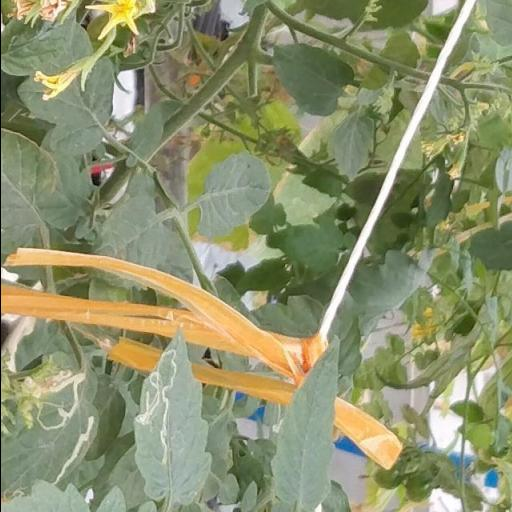disease_tomato: (0, 350, 100, 502), (132, 330, 212, 504)
